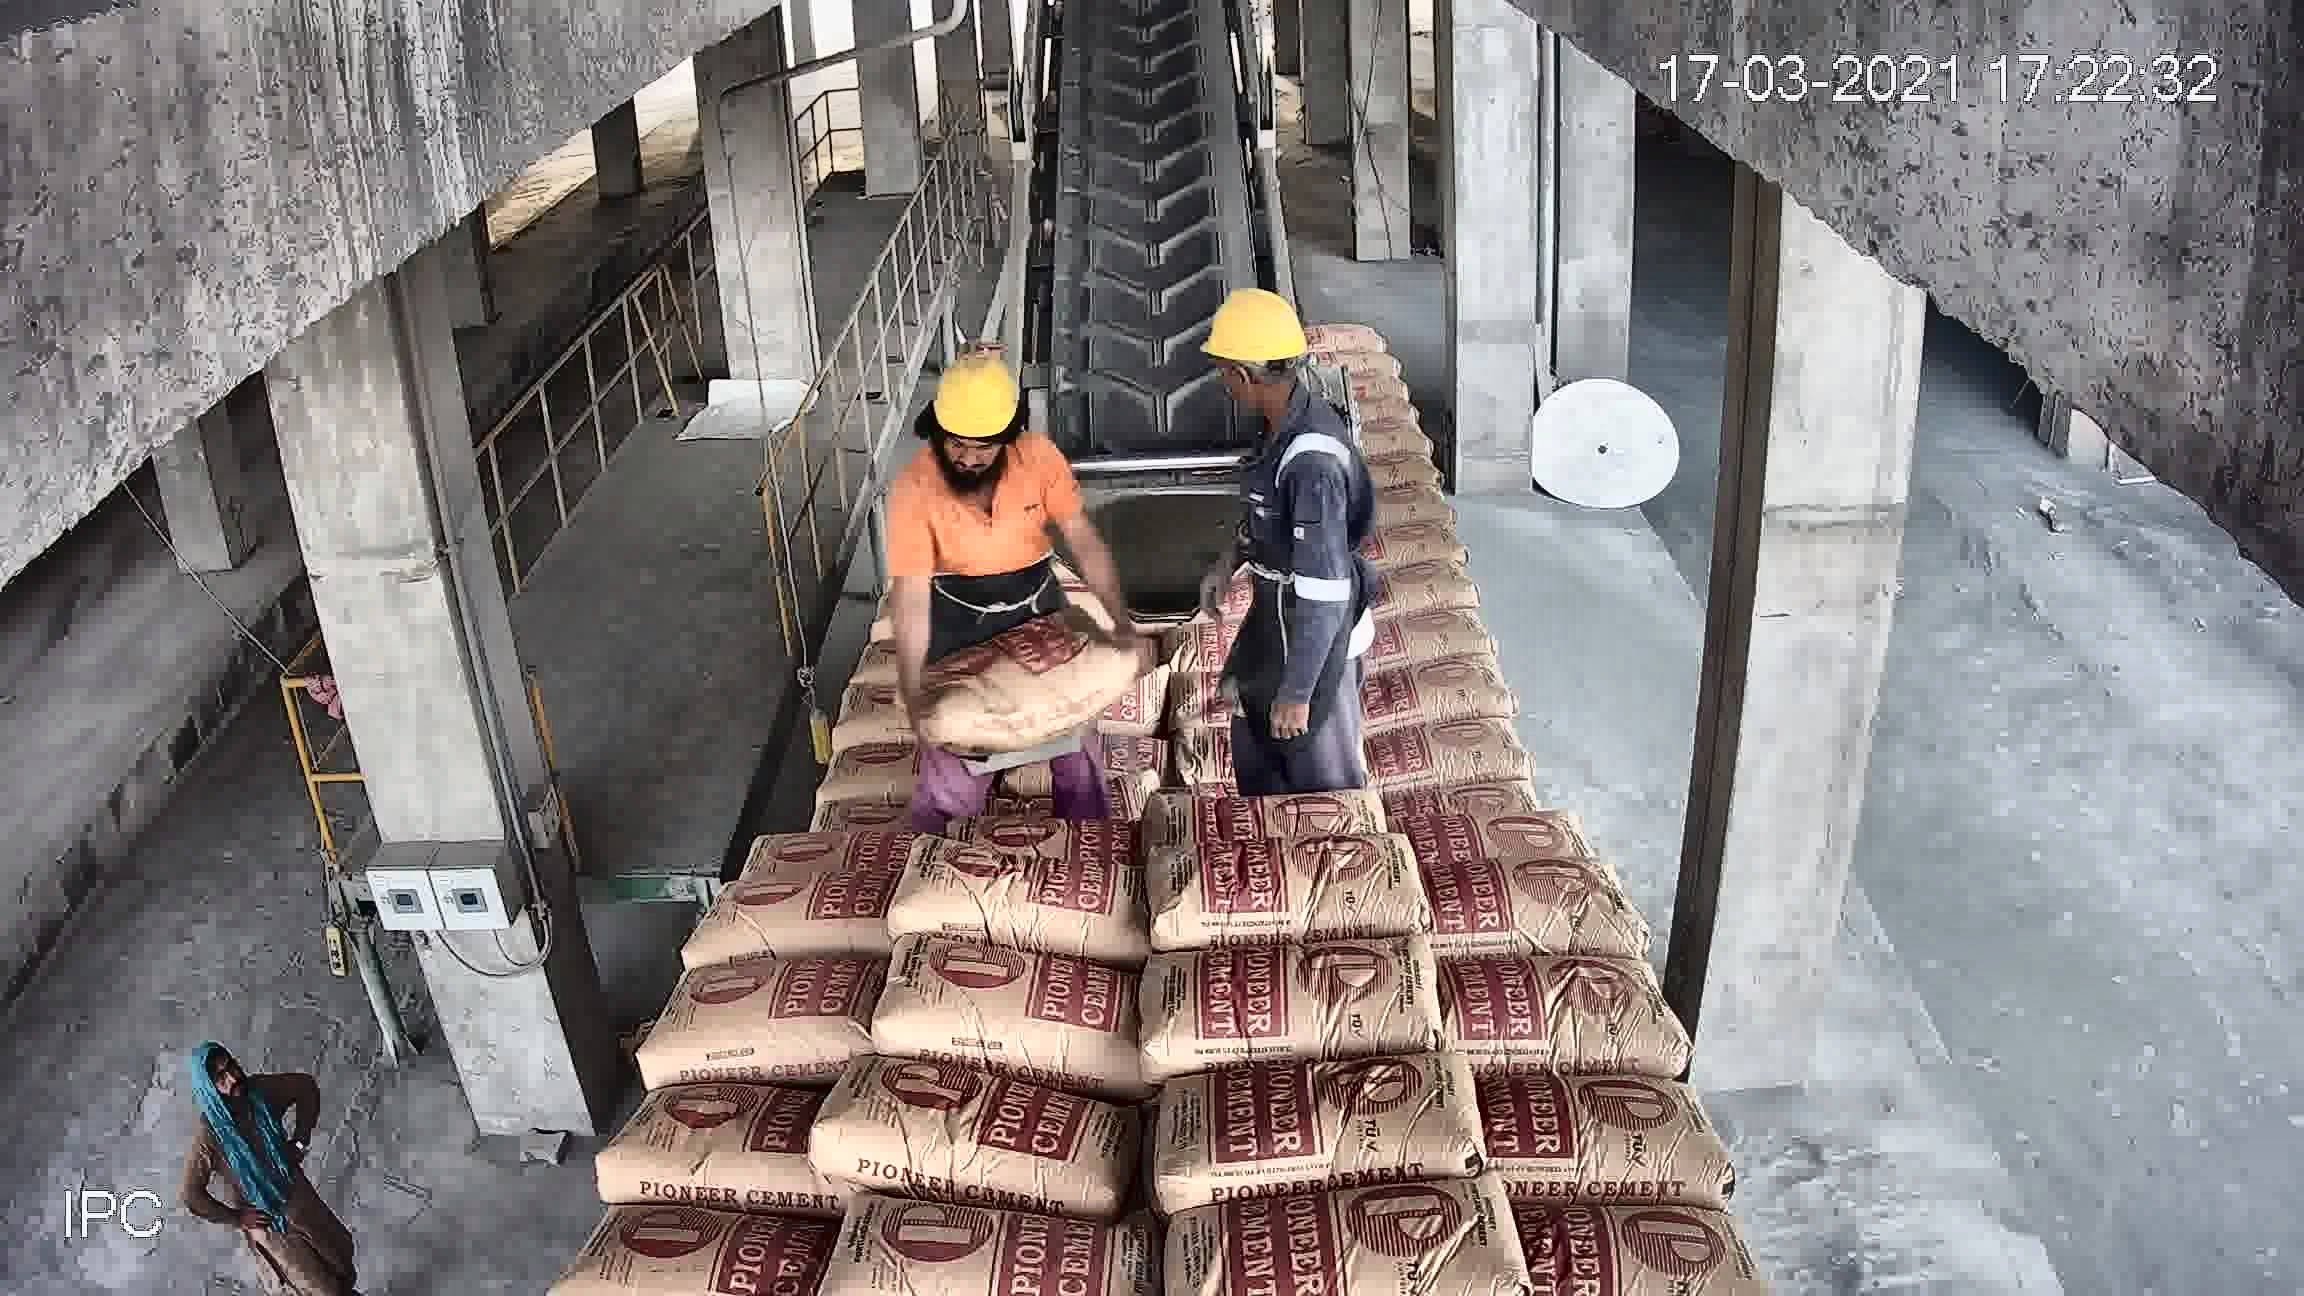bag: (891, 519, 1092, 631), (1082, 180, 1228, 293)
bag_h: (1106, 927, 1446, 1097), (1166, 1163, 1586, 1296), (1154, 1036, 1476, 1203), (1412, 930, 1676, 1073), (810, 1098, 1149, 1207), (630, 956, 889, 1097), (1494, 1048, 1741, 1188), (1530, 1173, 1804, 1296), (1143, 828, 1427, 943), (878, 956, 1149, 1071), (1165, 715, 1400, 843), (873, 842, 1128, 956), (794, 1225, 1166, 1296), (584, 1095, 828, 1203), (1130, 652, 1393, 752), (1442, 831, 1630, 954), (736, 696, 921, 802), (897, 764, 1138, 840), (699, 873, 894, 967), (585, 1218, 809, 1296), (731, 783, 899, 885), (1400, 755, 1578, 850), (1389, 676, 1546, 782), (923, 680, 1147, 745), (1364, 548, 1476, 611), (1329, 487, 1456, 540), (1342, 437, 1448, 495), (1374, 609, 1492, 658), (1388, 652, 1510, 696), (1082, 627, 1206, 666), (1353, 529, 1465, 571), (1097, 540, 1185, 574), (1097, 581, 1184, 614)
belt: (1027, 30, 1283, 448)
